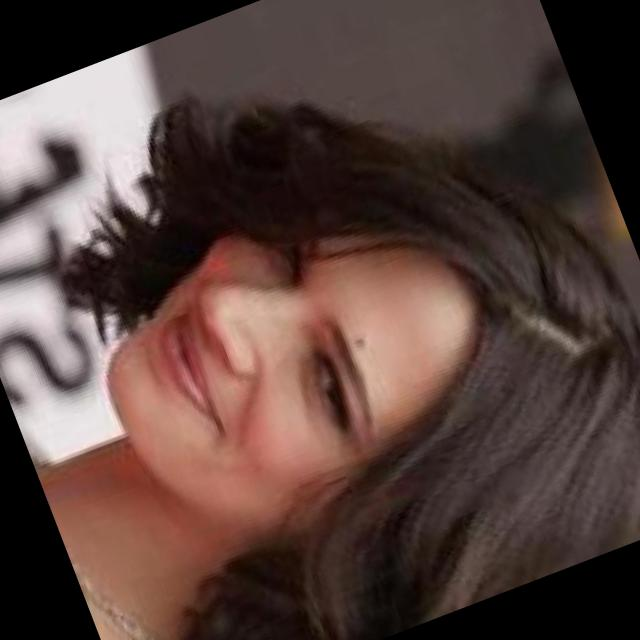bareface: (64, 128, 640, 640)
